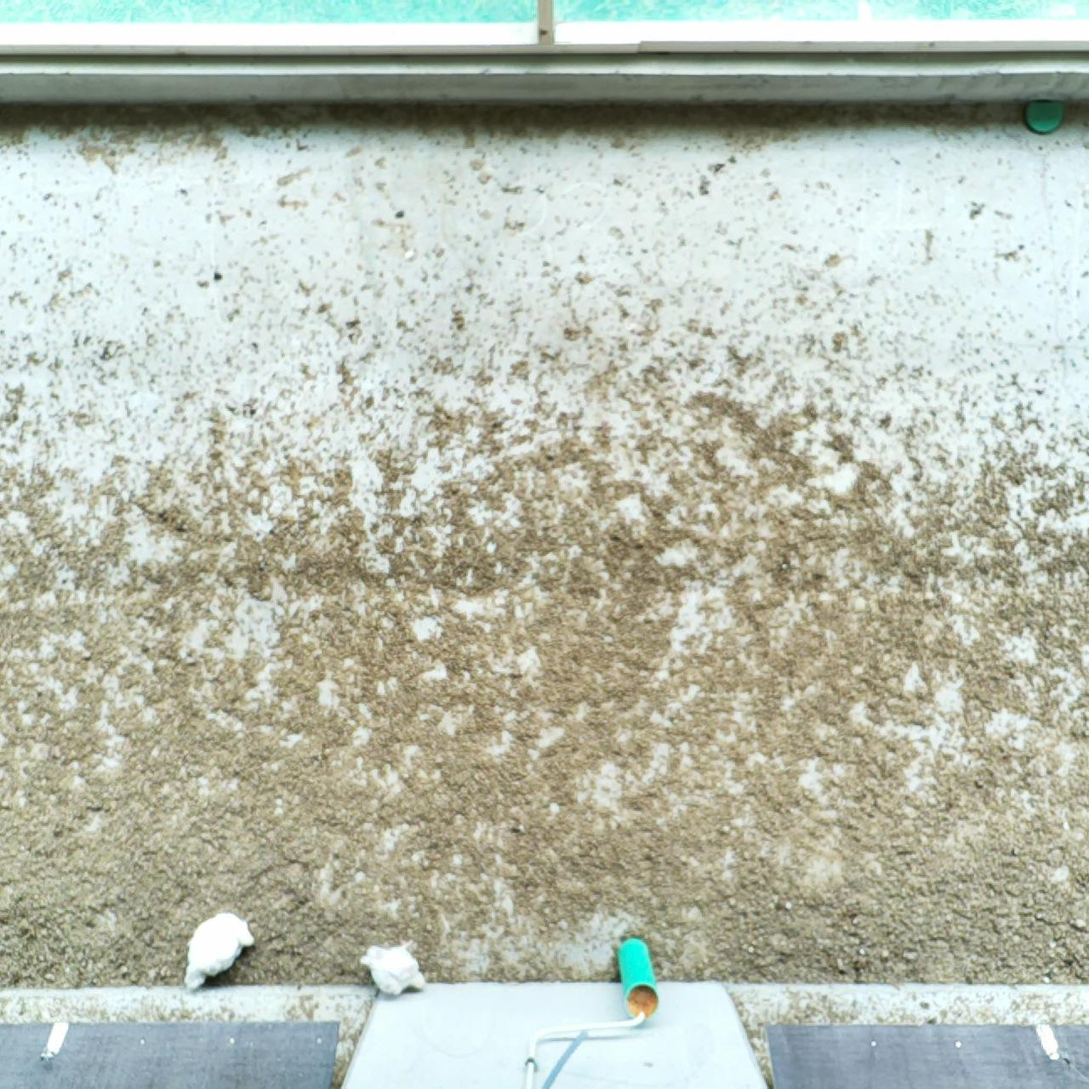chicken: (181, 910, 257, 995), (358, 936, 429, 998)
